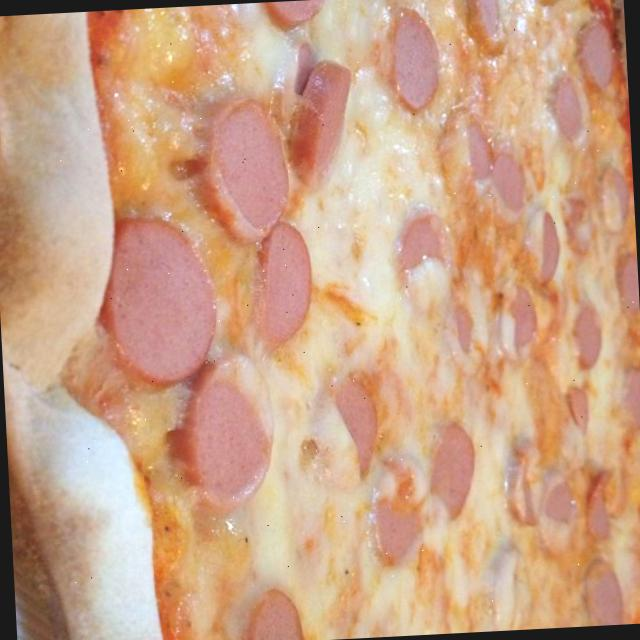pizza: (62, 0, 640, 640)
